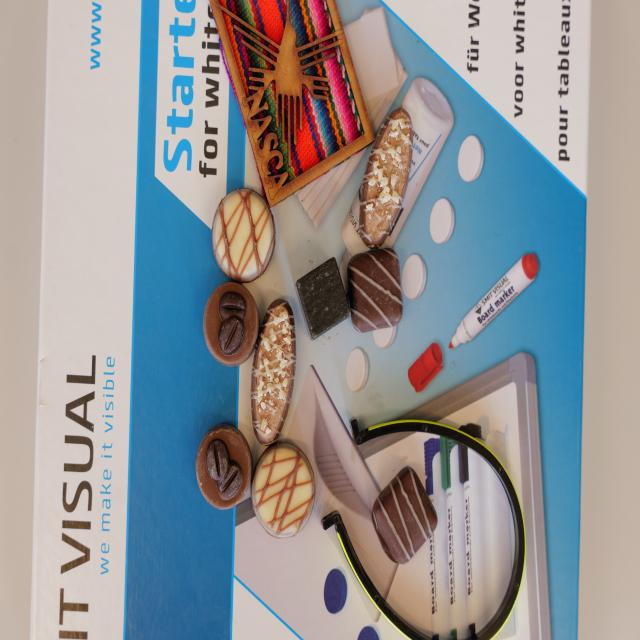Amandina: (359, 106, 414, 248), (250, 298, 298, 447)
Arabia: (198, 424, 253, 507), (206, 282, 261, 364)
Creme_brulee: (252, 437, 318, 543), (211, 184, 276, 284)
Stracciatella: (370, 464, 439, 565), (348, 246, 407, 332)
